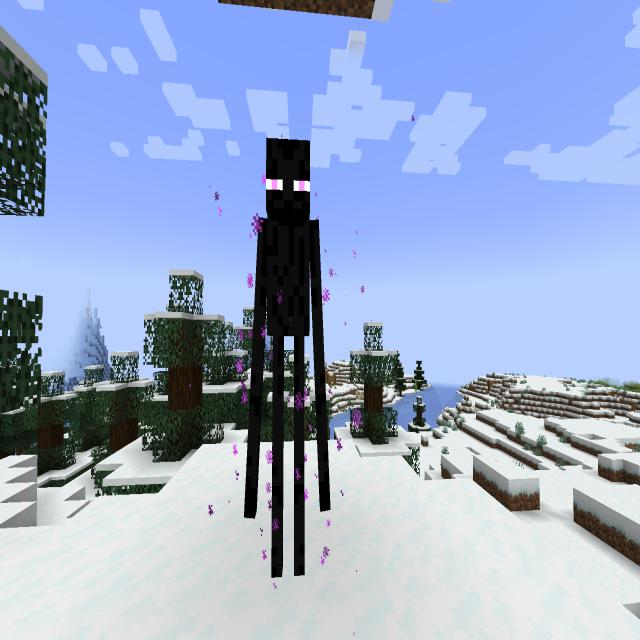Enderman: (238, 119, 339, 591)
